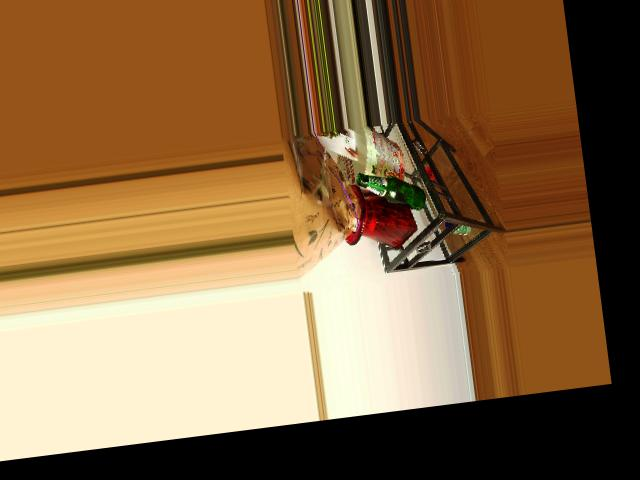beer: (355, 165, 427, 217)
